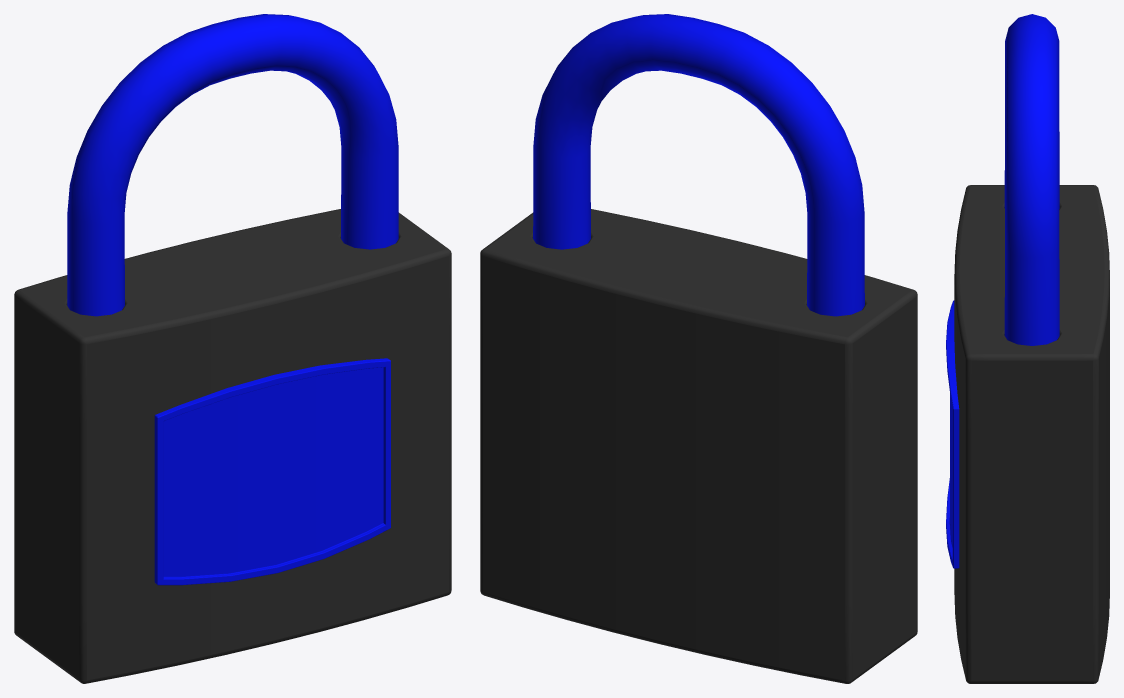
The model's file is Lock-Animated.FBX.
3 renders of one model, left to right at view 1: azimuth 30°, elevation 25°; view 2: azimuth 150°, elevation 25°; view 3: azimuth 270°, elevation 25°, orthographic. The views are drawn at different scales.
Visible parts, largest first — view 1: Box01, Rectangle03; view 2: Box01, Rectangle03; view 3: Box01, Rectangle03.
Part boxes in pixels (x1,y1,x2,y2): Box01: [14, 209, 451, 683]; Rectangle03: [67, 14, 398, 316]; Box01: [480, 209, 917, 683]; Rectangle03: [533, 14, 864, 316]; Box01: [946, 185, 1109, 683]; Rectangle03: [1004, 14, 1059, 345].
Bounding box in the file's own units: 1.64 × 2.5 × 0.6572.
